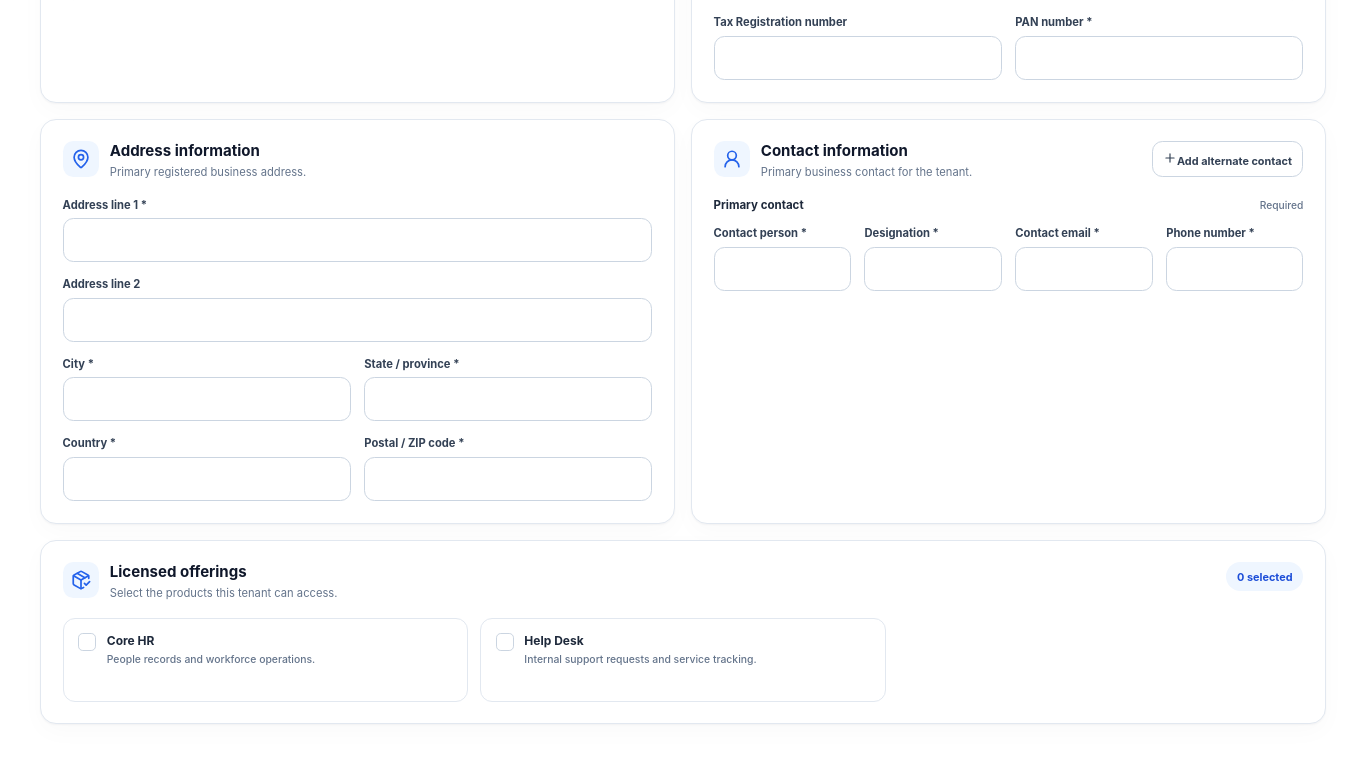
Test: TenantRegistrationPage offering access workflow › does not show the access window configuration panel
(page scrolled)
Click the checkbox named "Select Core HR" at (265,660), box [63,618,468,702]
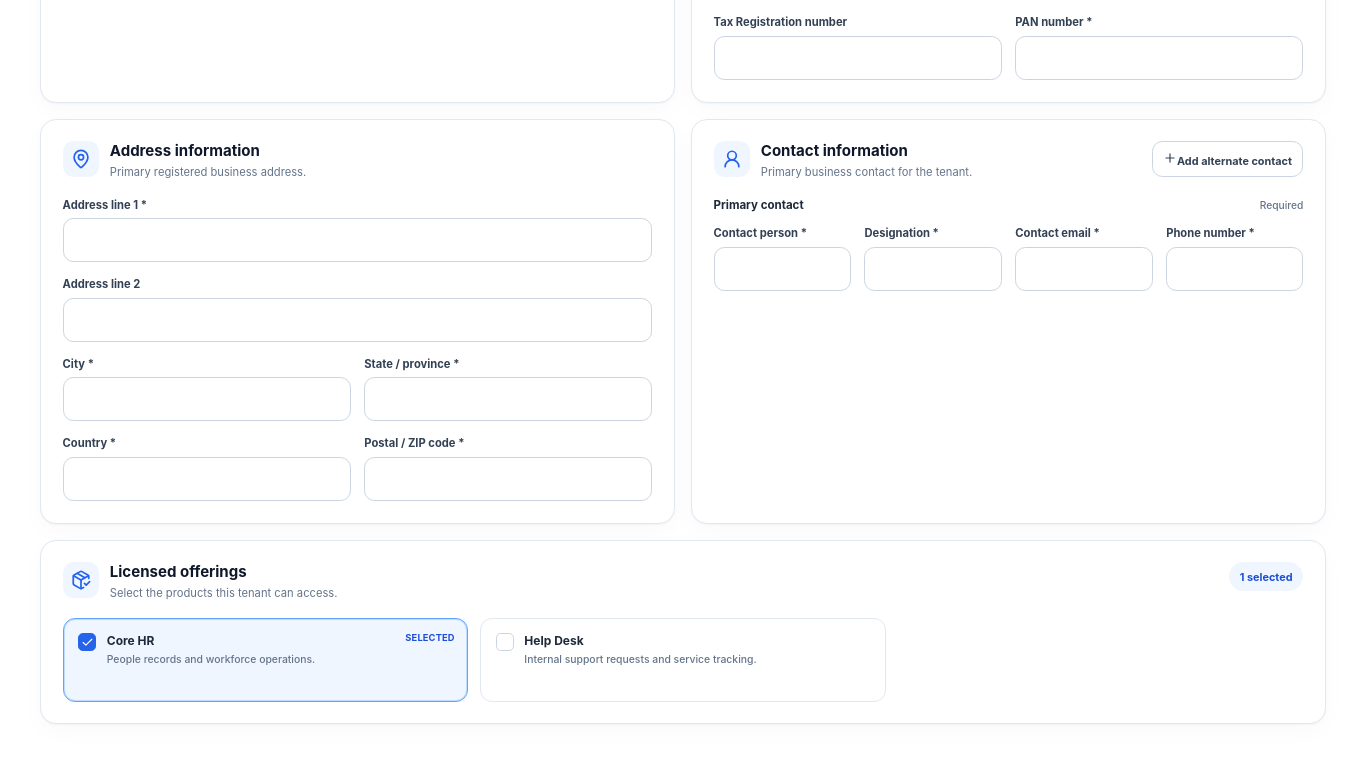
expect the text "1 selected" is shown: met, box [1229,562,1303,591]
